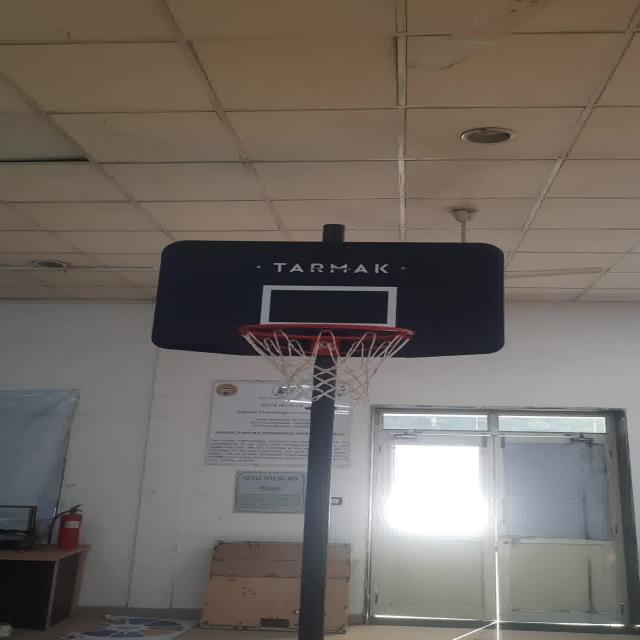objects: (240, 318, 414, 408), (265, 288, 398, 322)
